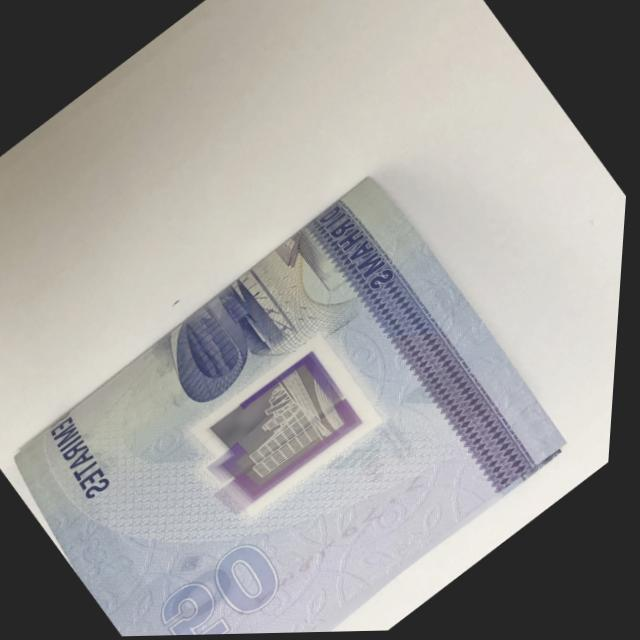50_AED: (4, 166, 572, 636)
